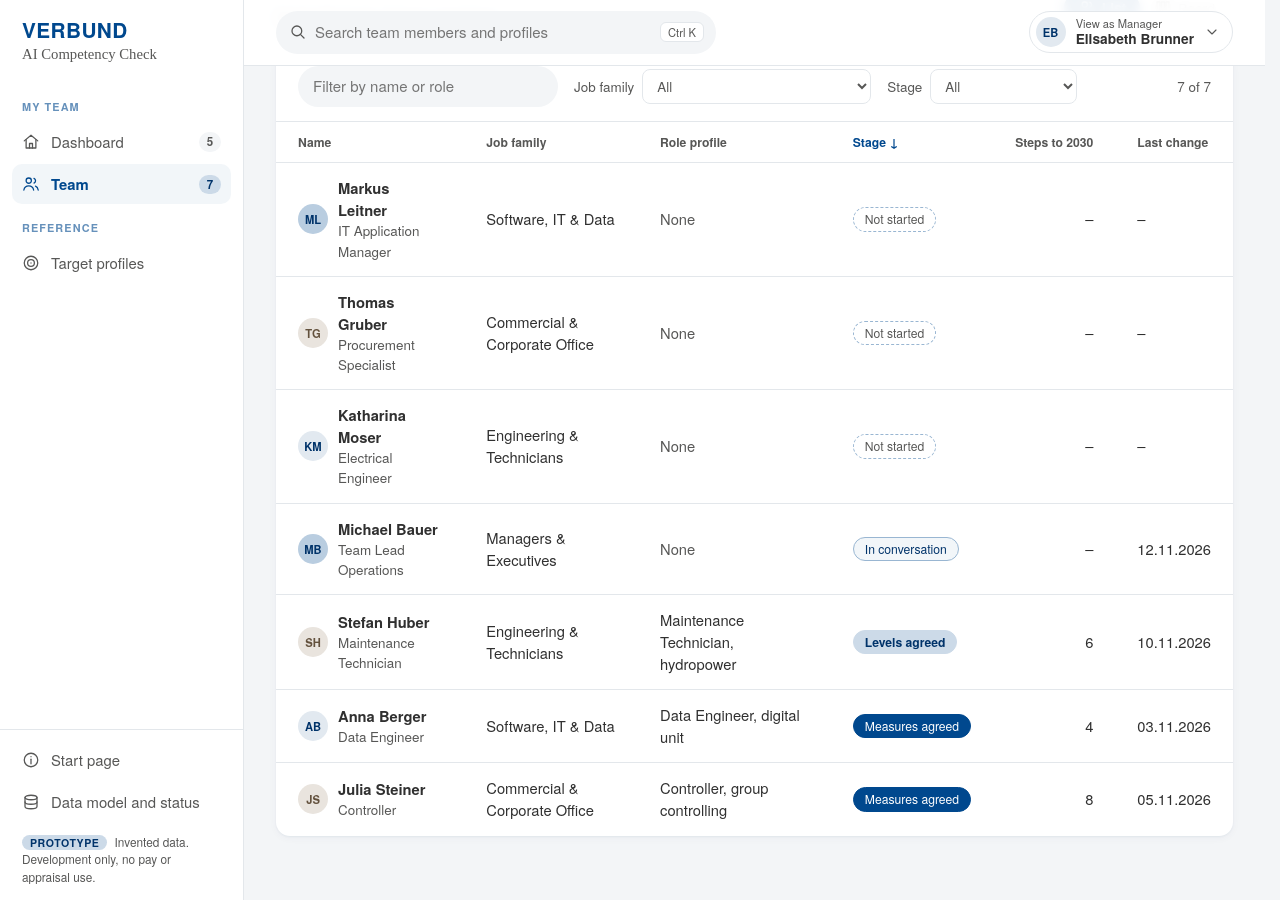
Scenario: preview › opens a person from the list and closes with Escape
(page scrolled)
Check: the navigation bar named "Main" is shown, box [12, 99, 231, 272]
Click the button "Julia Steiner" at point(382, 789), box [338, 778, 426, 800]
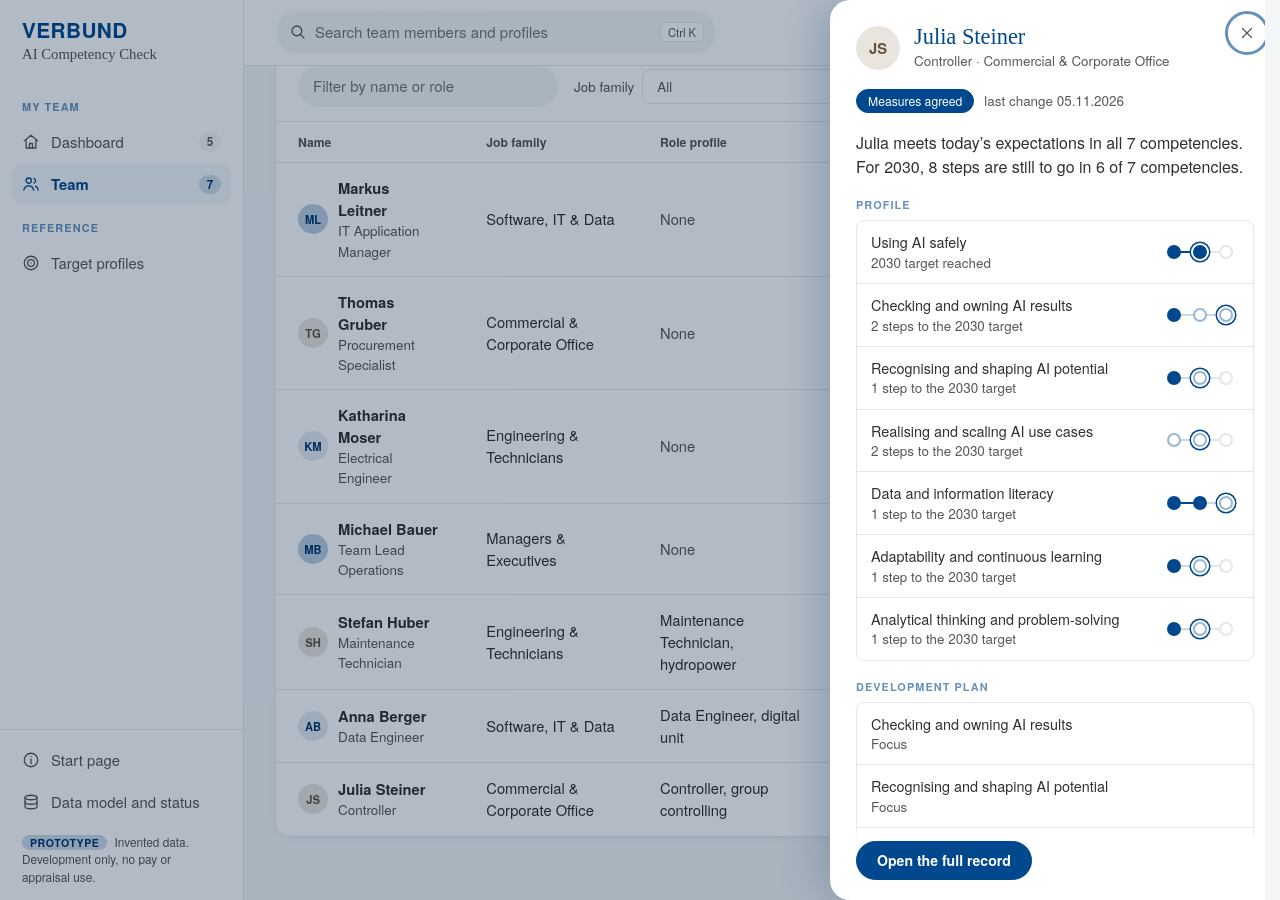
Check: the heading "Julia Steiner" is shown, box [914, 24, 1025, 49]
Press Escape
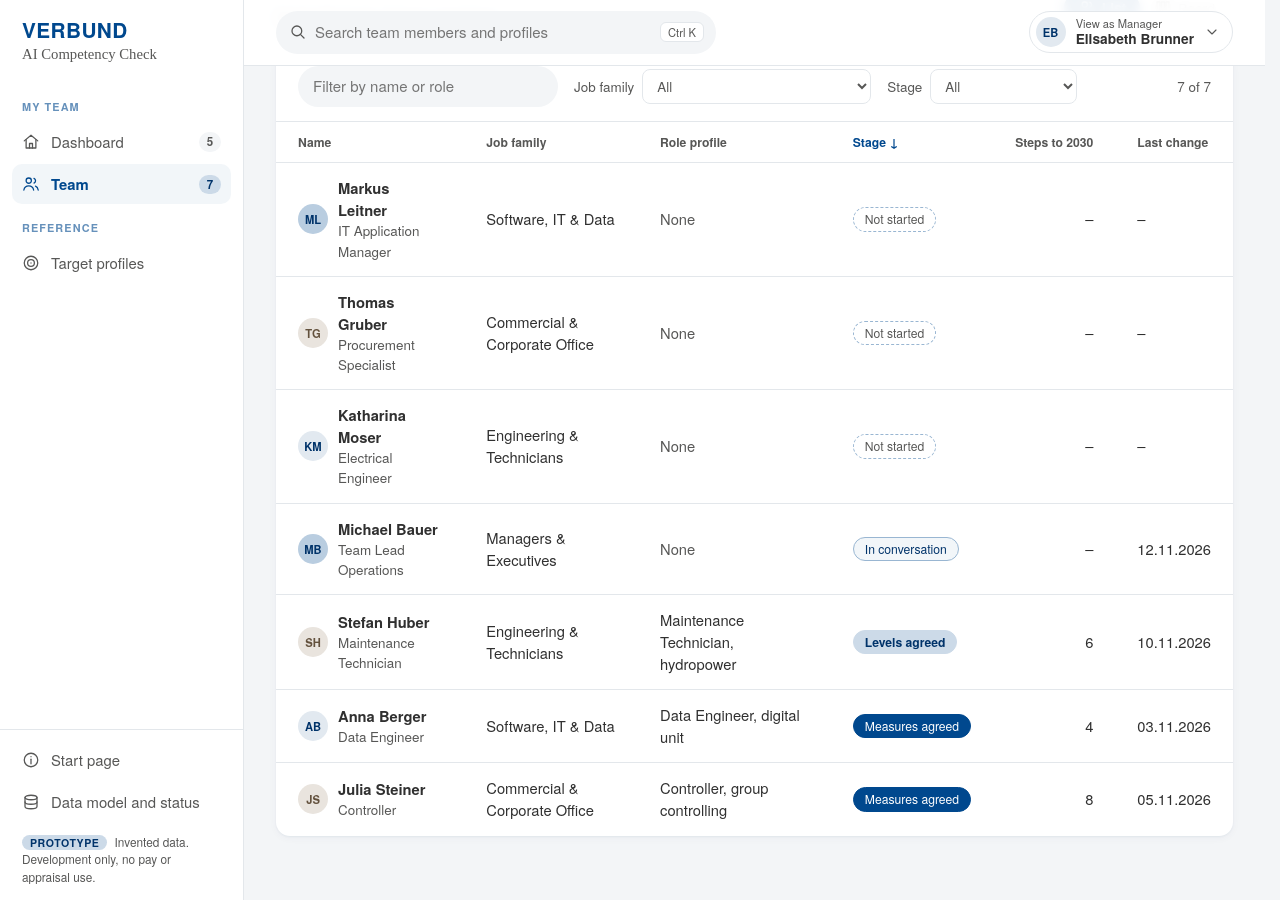
Check: the dialog is gone
